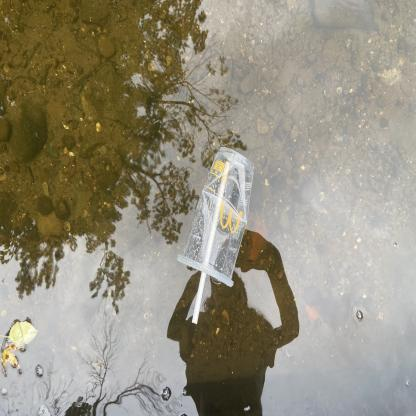trash: (165, 139, 260, 328)
